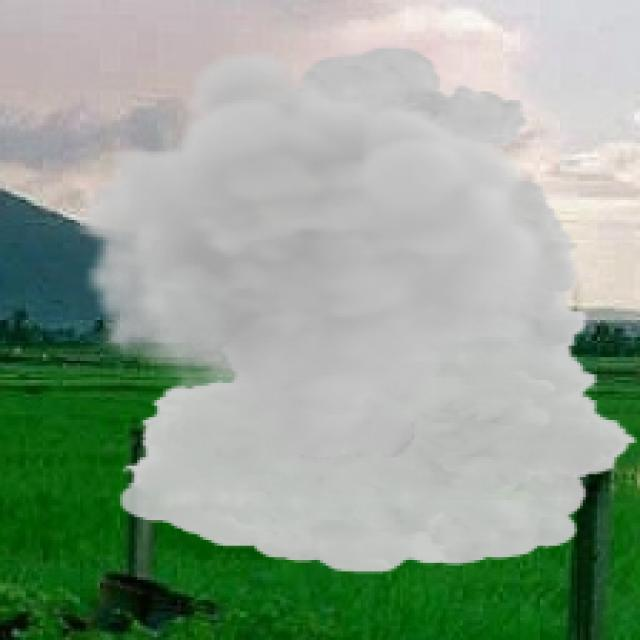Smoke: (74, 45, 637, 578)
